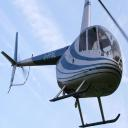helicopter: (1, 2, 128, 127)
